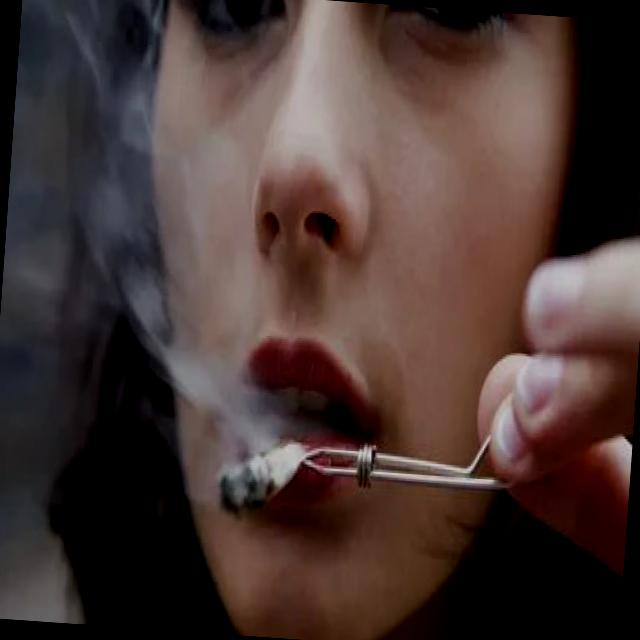smoke: (211, 420, 311, 526)
